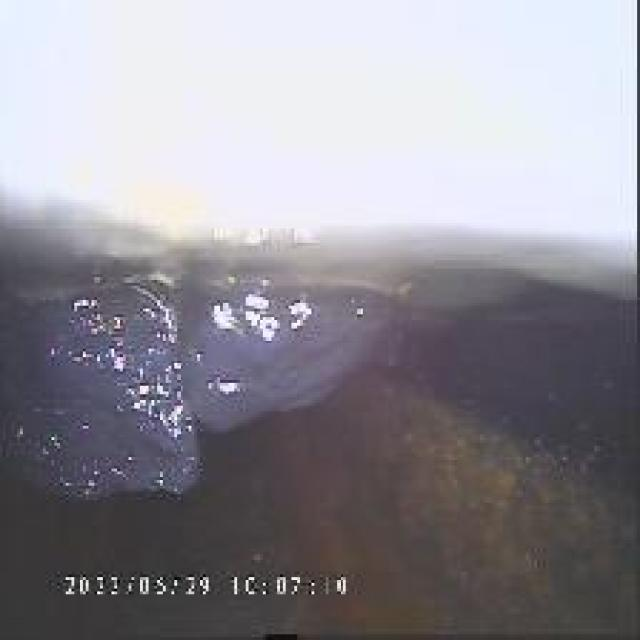stone: (26, 280, 463, 491)
